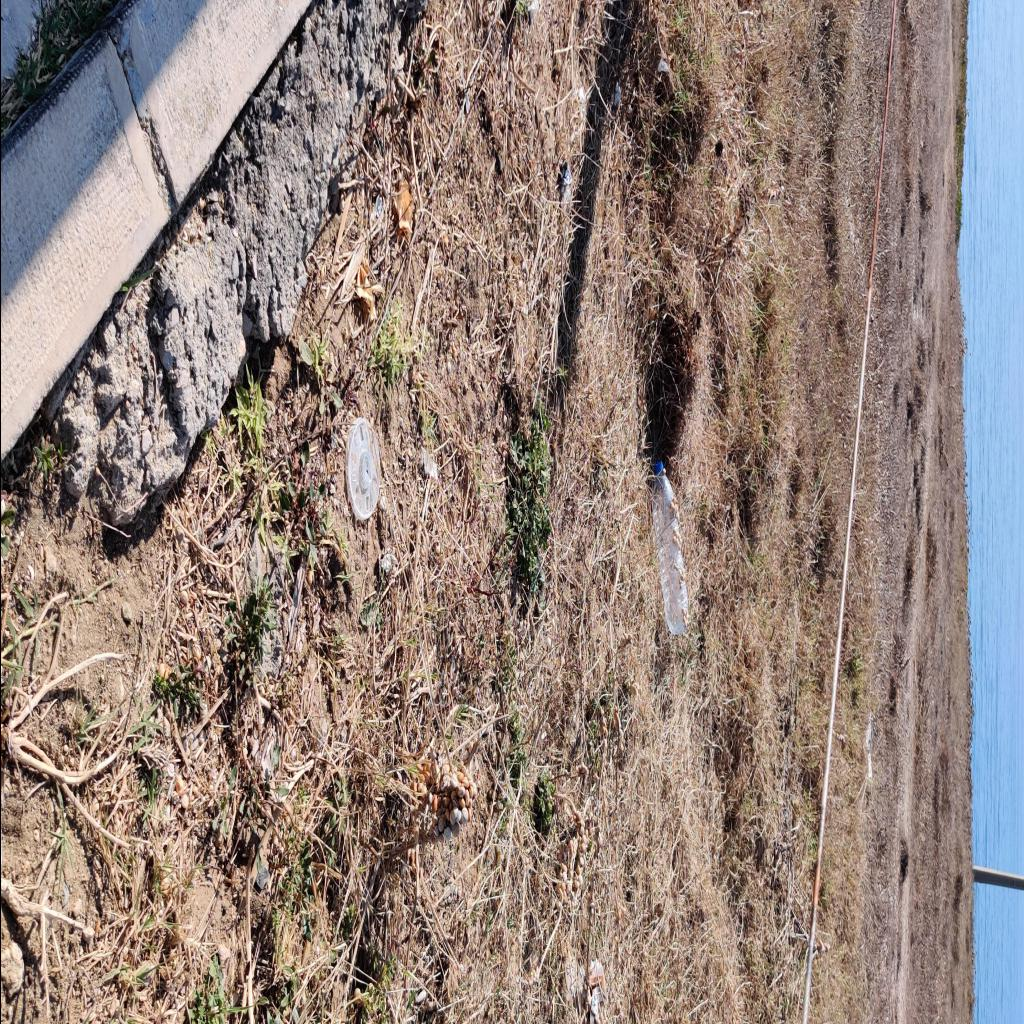Clear plastic bottle: (651, 462, 687, 636)
Plastic bottle cap: (654, 461, 662, 473)
Plastic film: (656, 59, 668, 71)
Plastic lid: (344, 416, 380, 520)
Unlabeled litter: (558, 158, 572, 198), (864, 717, 872, 778)
